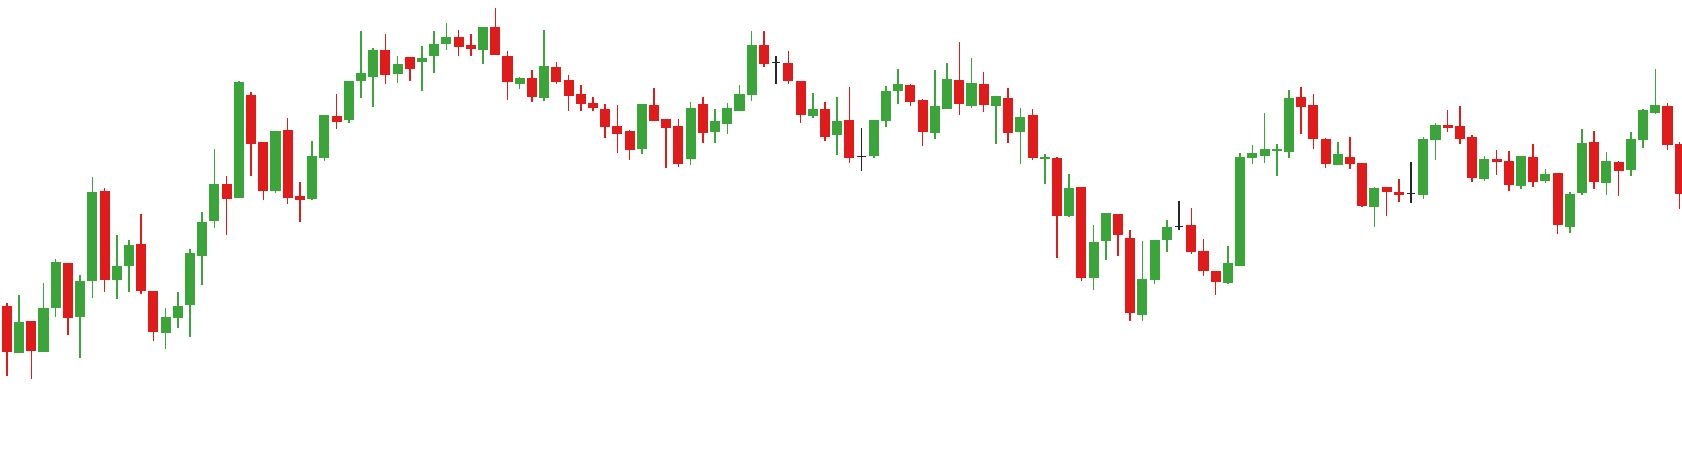buy: (1075, 227, 1160, 322)
